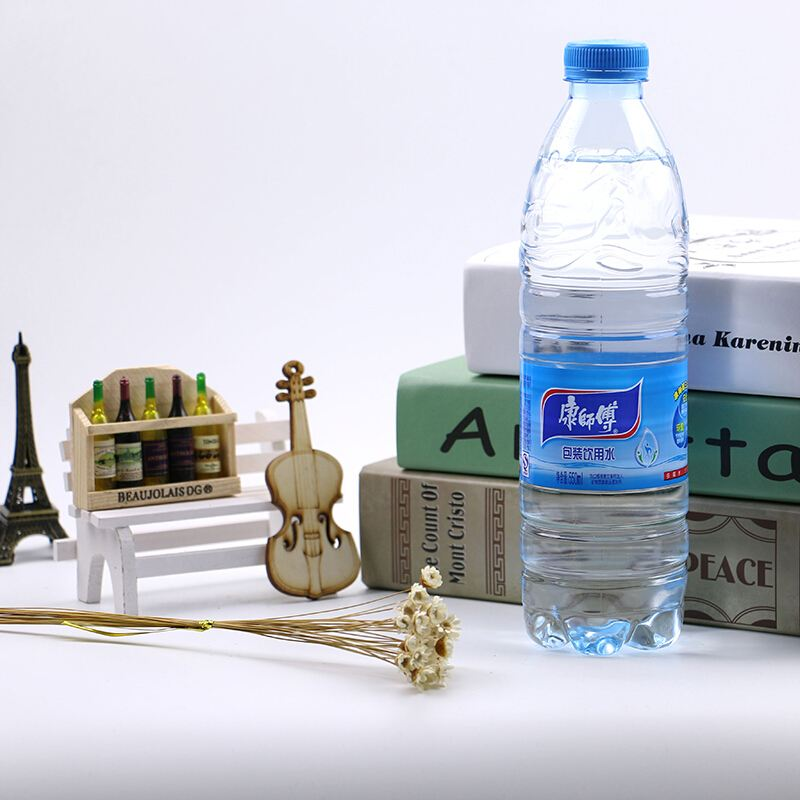amwater: (488, 24, 703, 669)
